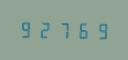nine: (18, 19, 35, 39), (90, 20, 107, 40)
seven: (54, 19, 71, 40)
six: (72, 20, 89, 40)
two: (36, 19, 53, 39)
